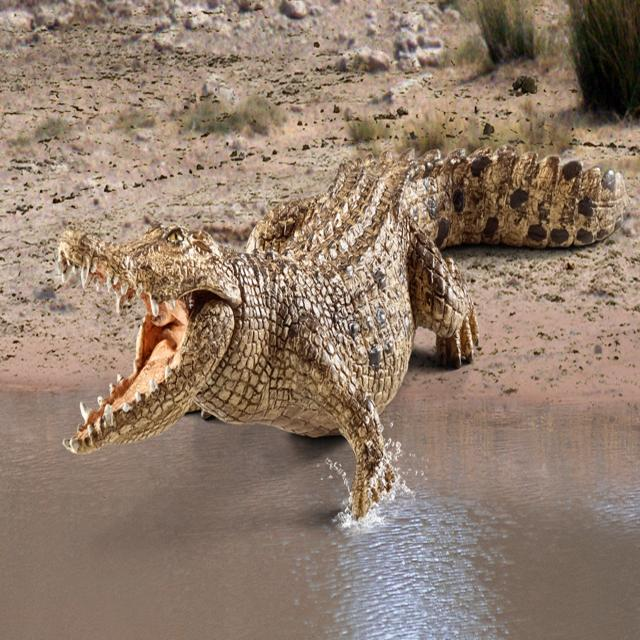crocodile: (26, 115, 640, 556)
